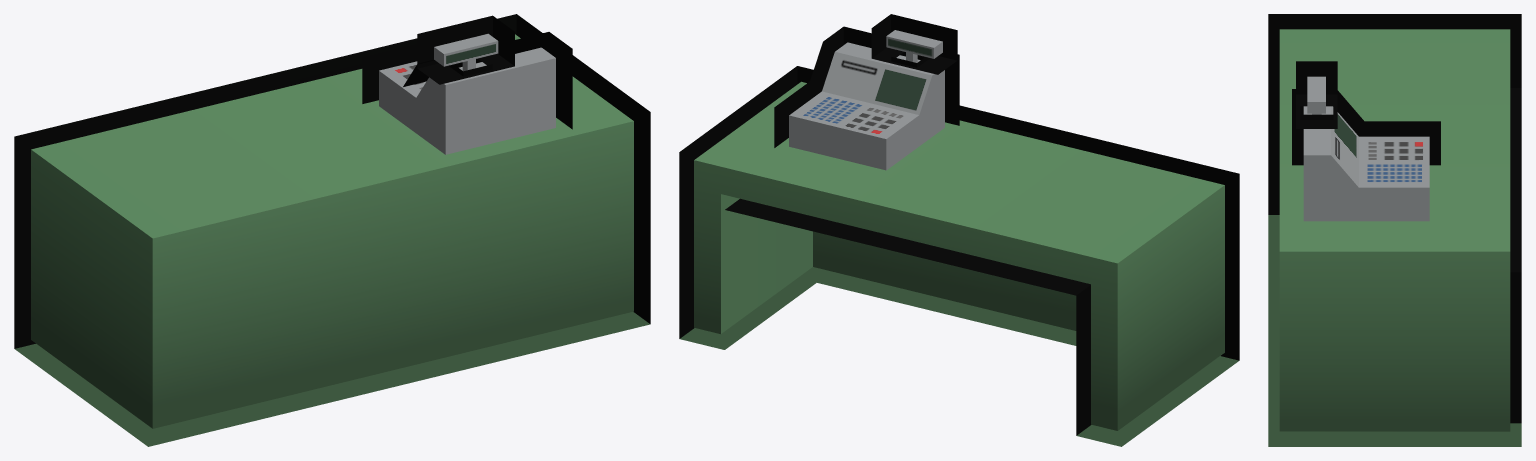
The model's file is cashier outline.fbx.
3 views of the same model, side by side, from view 1: azimuth 30°, elevation 25°; view 2: azimuth 150°, elevation 25°; view 3: azimuth 270°, elevation 25° (orthographic). The views are drawn at different scales.
Parts seen in each view (by area): view 1: table, cashier; view 2: table, cashier; view 3: table, cashier.
Part boxes in pixels (<box>): table: <box>14,14,650,446</box>; cashier: <box>362,15,572,154</box>; table: <box>679,66,1239,446</box>; cashier: <box>774,14,959,170</box>; table: <box>1268,14,1521,446</box>; cashier: <box>1292,61,1440,221</box>.
Bounding box in the file's own units: 476 × 282 × 220.
Materials: 2 (2 with a texture image).
